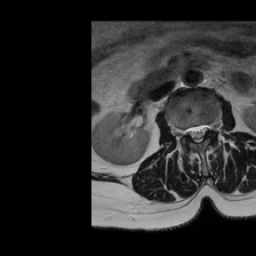CCS_normal: (194, 118, 200, 148)
LFS_normal: (207, 116, 215, 138)
LLS_normal: (200, 117, 207, 141)
RFS_stenosis: (180, 120, 187, 141)
RLS_normal: (187, 120, 194, 141)
